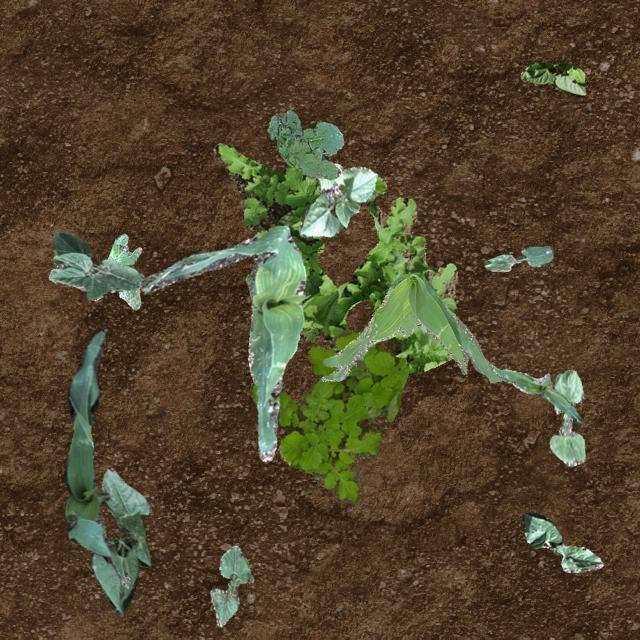crop: (140, 224, 306, 460), (64, 330, 130, 588), (90, 466, 150, 614), (48, 230, 144, 298), (484, 358, 582, 422), (298, 162, 376, 235), (520, 512, 602, 572), (208, 544, 252, 626), (548, 368, 584, 464), (520, 60, 584, 96), (484, 244, 552, 270)
weed: (213, 142, 457, 374), (248, 328, 408, 502), (320, 272, 502, 382), (266, 108, 342, 178), (106, 232, 140, 308)
